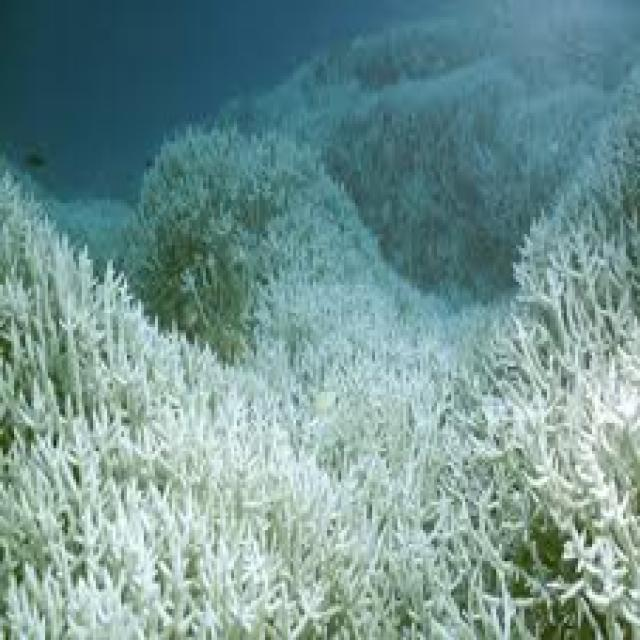Bleached: (152, 133, 495, 450), (1, 438, 486, 640), (497, 63, 640, 562), (1, 205, 132, 450), (553, 342, 640, 611), (59, 339, 269, 450)
